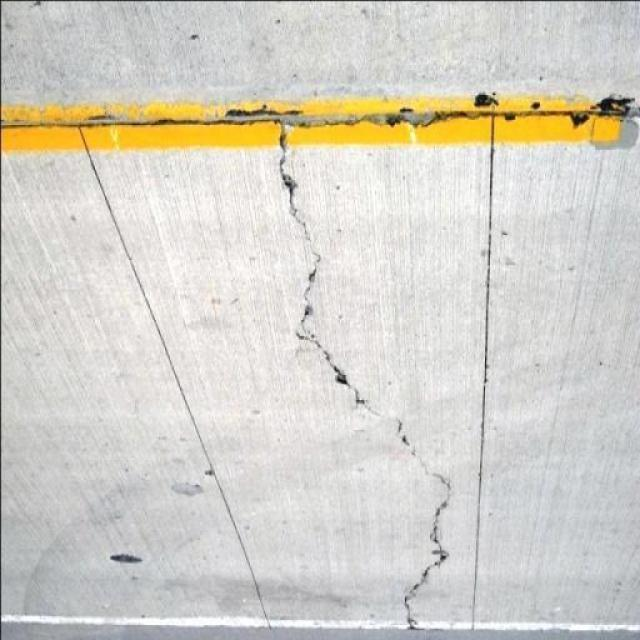minor crack: (398, 115, 418, 142)
moderate crack: (279, 124, 352, 413), (469, 103, 496, 622), (8, 616, 636, 633), (343, 401, 394, 446), (182, 304, 250, 336), (583, 94, 634, 136), (175, 466, 214, 493), (406, 613, 419, 628), (334, 370, 347, 384), (432, 549, 447, 561), (303, 302, 312, 315), (400, 433, 408, 446), (30, 0, 42, 7), (230, 296, 239, 304), (204, 468, 212, 475)
severe crack: (301, 321, 452, 632), (72, 131, 200, 426), (0, 2, 353, 94), (5, 79, 631, 117), (195, 467, 276, 628), (406, 539, 446, 622), (267, 112, 422, 129), (314, 346, 358, 396), (94, 114, 259, 126), (3, 114, 105, 128), (276, 124, 292, 171), (222, 106, 272, 118), (281, 171, 297, 198), (306, 262, 318, 290), (569, 111, 589, 127), (386, 113, 404, 126), (354, 395, 366, 404), (482, 373, 488, 384)
